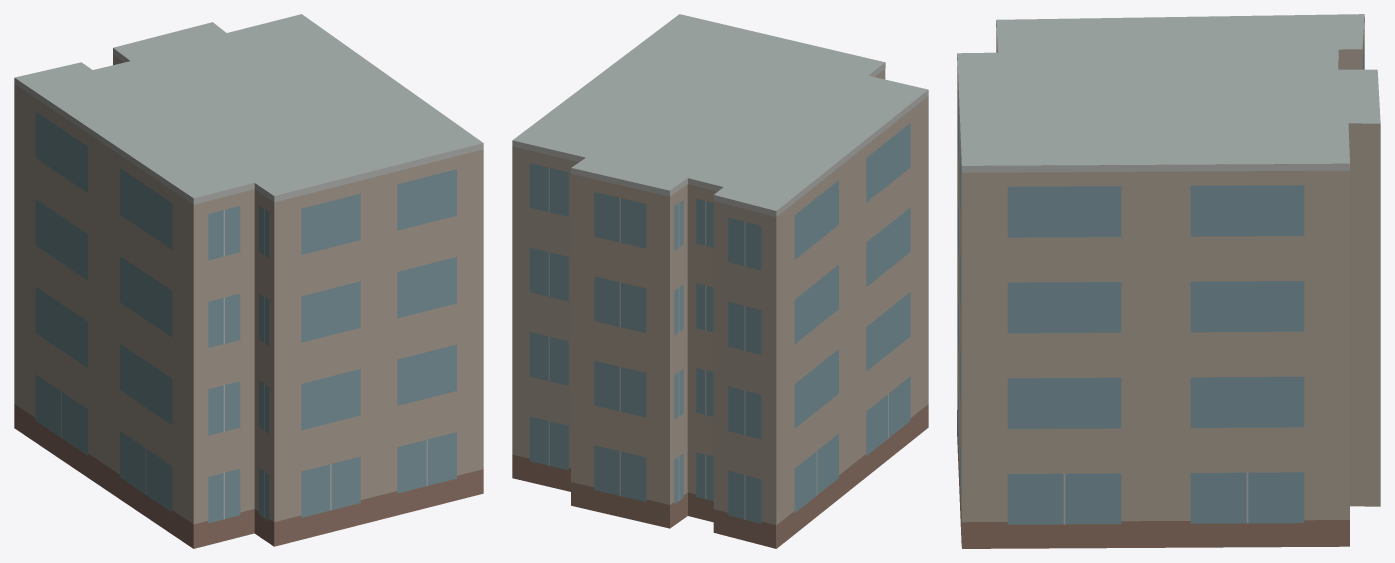
The model's file is survey-upis-32834494.glb.
3 views of the same model, side by side, from view 1: azimuth 30°, elevation 25°; view 2: azimuth 150°, elevation 25°; view 3: azimuth 270°, elevation 25° (orthographic). The views are drawn at different scales.
Parts seen in each view (by area): view 1: survey-upis-32834494.tmp; view 2: survey-upis-32834494.tmp; view 3: survey-upis-32834494.tmp.
Boxes of the visible parts, x1=… form: survey-upis-32834494.tmp: x1=14, y1=14, x2=483, y2=548; survey-upis-32834494.tmp: x1=512, y1=14, x2=928, y2=548; survey-upis-32834494.tmp: x1=957, y1=14, x2=1380, y2=548.
Size of the model in its own units: 11.54 by 13.55 by 13.59.
